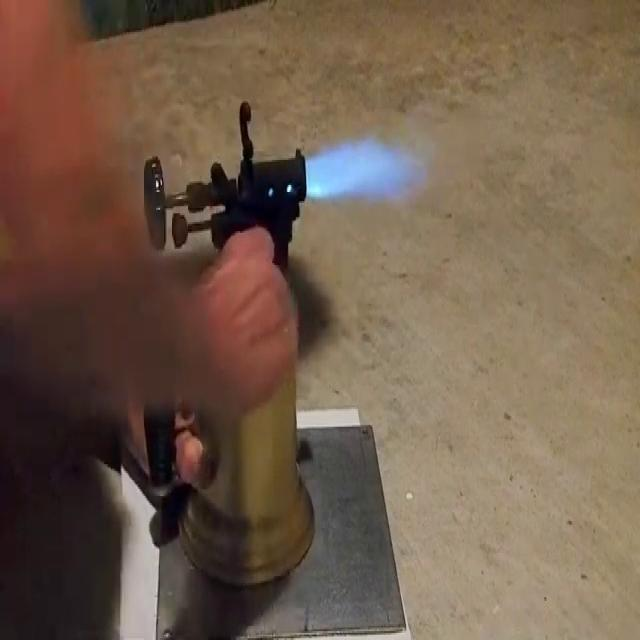fire: (300, 136, 446, 213)
